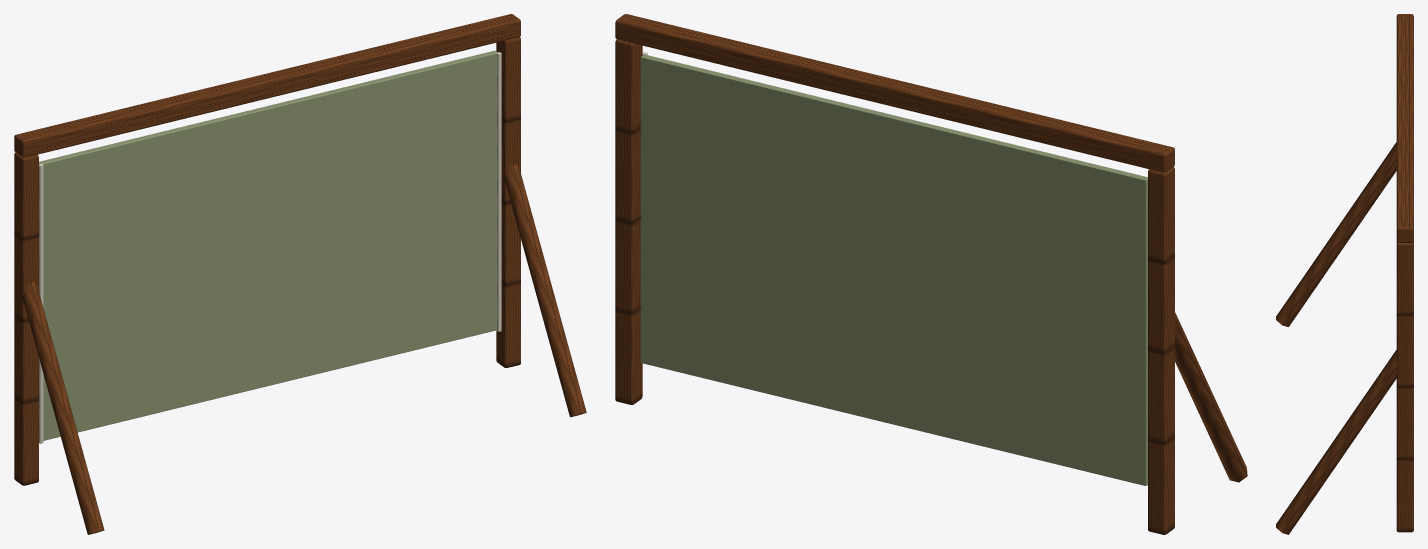
Rendered from wilderness-survival-camp-windbreak-screen-478fe76d__21940.glb.
3 renders of one model, left to right at view 1: azimuth 30°, elevation 25°; view 2: azimuth 150°, elevation 25°; view 3: azimuth 270°, elevation 25°, orthographic. The views are drawn at different scales.
Visible parts, largest first — view 1: windbreak-screen; view 2: windbreak-screen; view 3: windbreak-screen.
Boxes of the visible parts, box(x1,y1,x2,y2) form: windbreak-screen: box(14, 14, 586, 534); windbreak-screen: box(615, 14, 1247, 534); windbreak-screen: box(1276, 14, 1413, 534).
Bounding box in the file's own units: 2.07 × 1.39 × 0.5608.
Materials: 3 (1 with a texture image).
